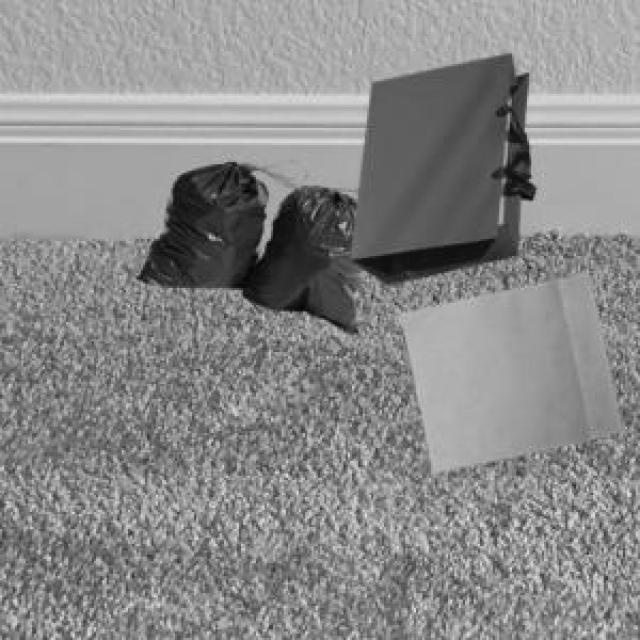miscellaneous trash: (133, 158, 358, 329)
paper: (395, 269, 619, 469), (346, 49, 531, 280)
